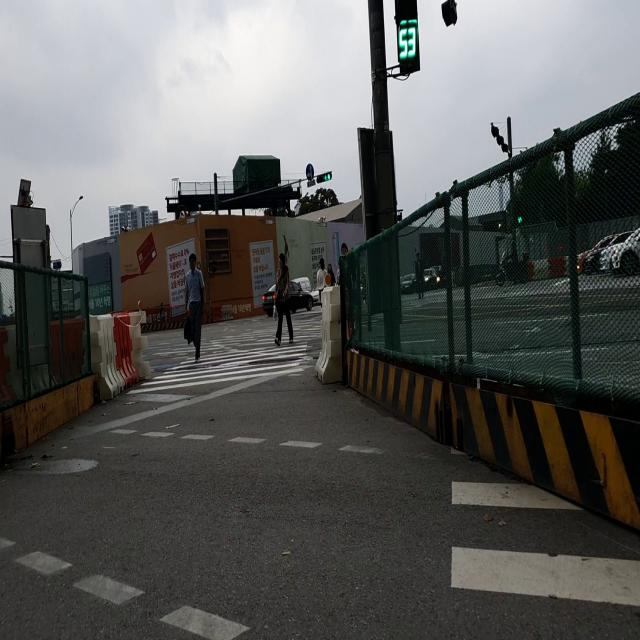초록불: (396, 0, 421, 75)
횡단보도: (450, 475, 640, 640), (127, 314, 319, 386)
